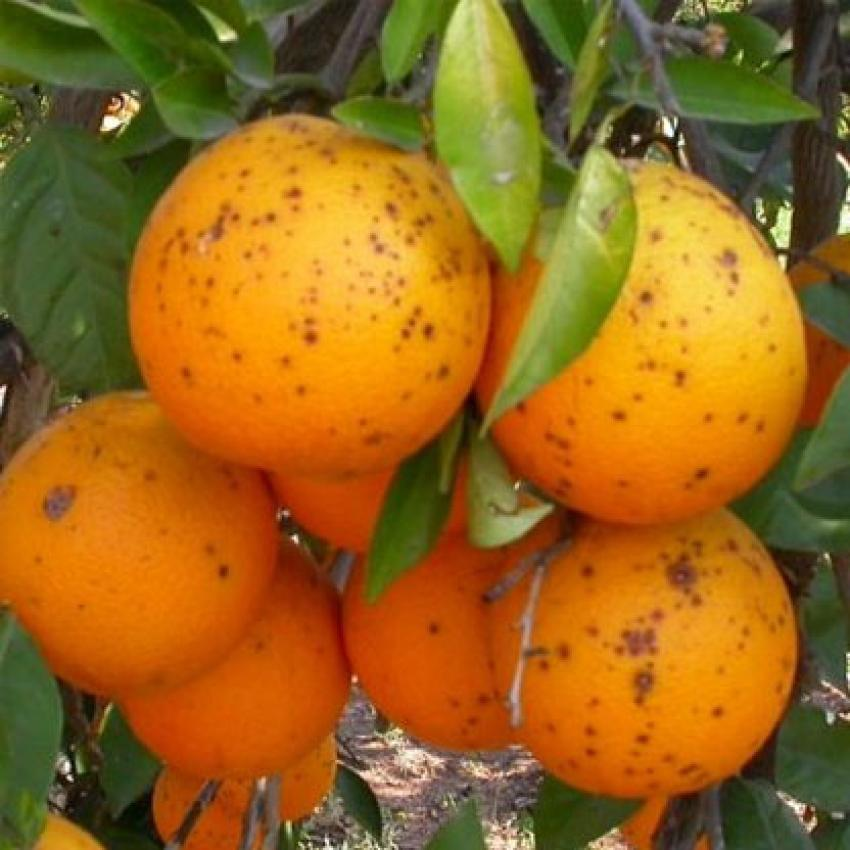Mal estado: (476, 129, 816, 526), (131, 115, 488, 476), (486, 509, 795, 797), (0, 380, 282, 691), (338, 490, 566, 760)
